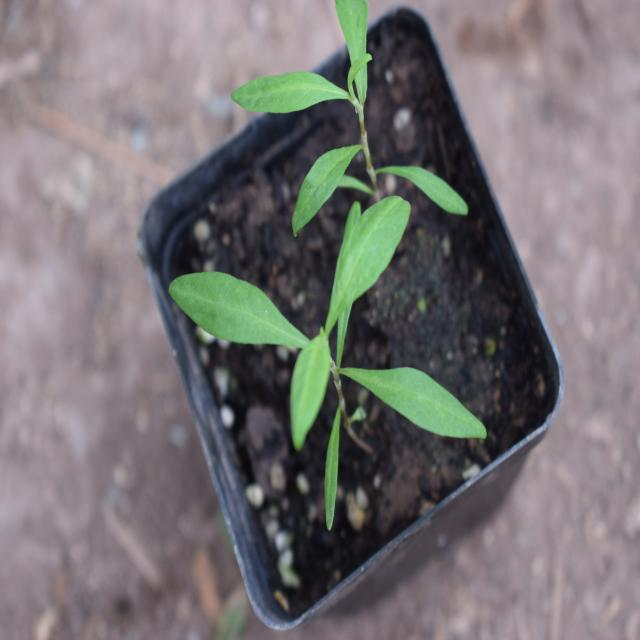white_smart_weed: (157, 208, 505, 479)
